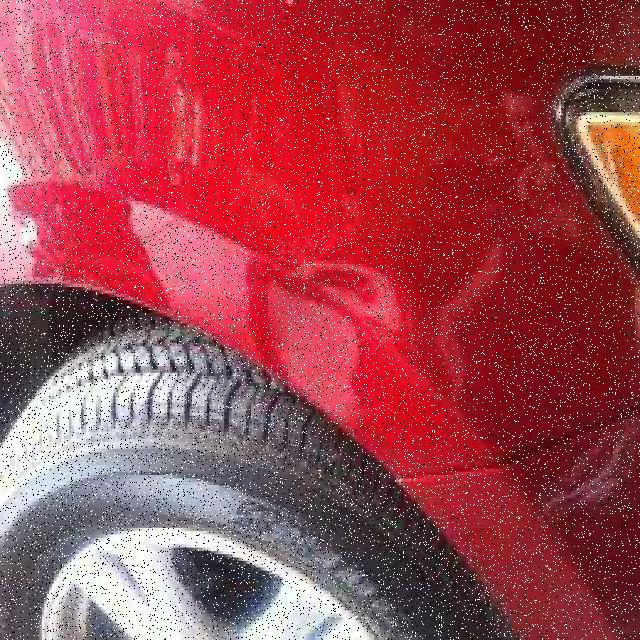fender-dent: (0, 3, 576, 494)
